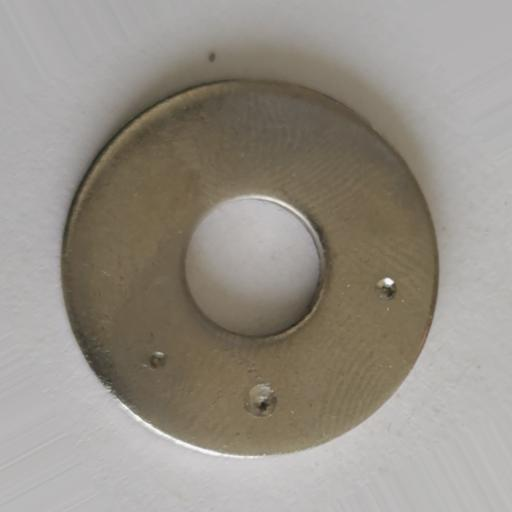circular_cavity: (243, 385, 278, 419), (375, 278, 397, 301), (149, 352, 165, 368)
